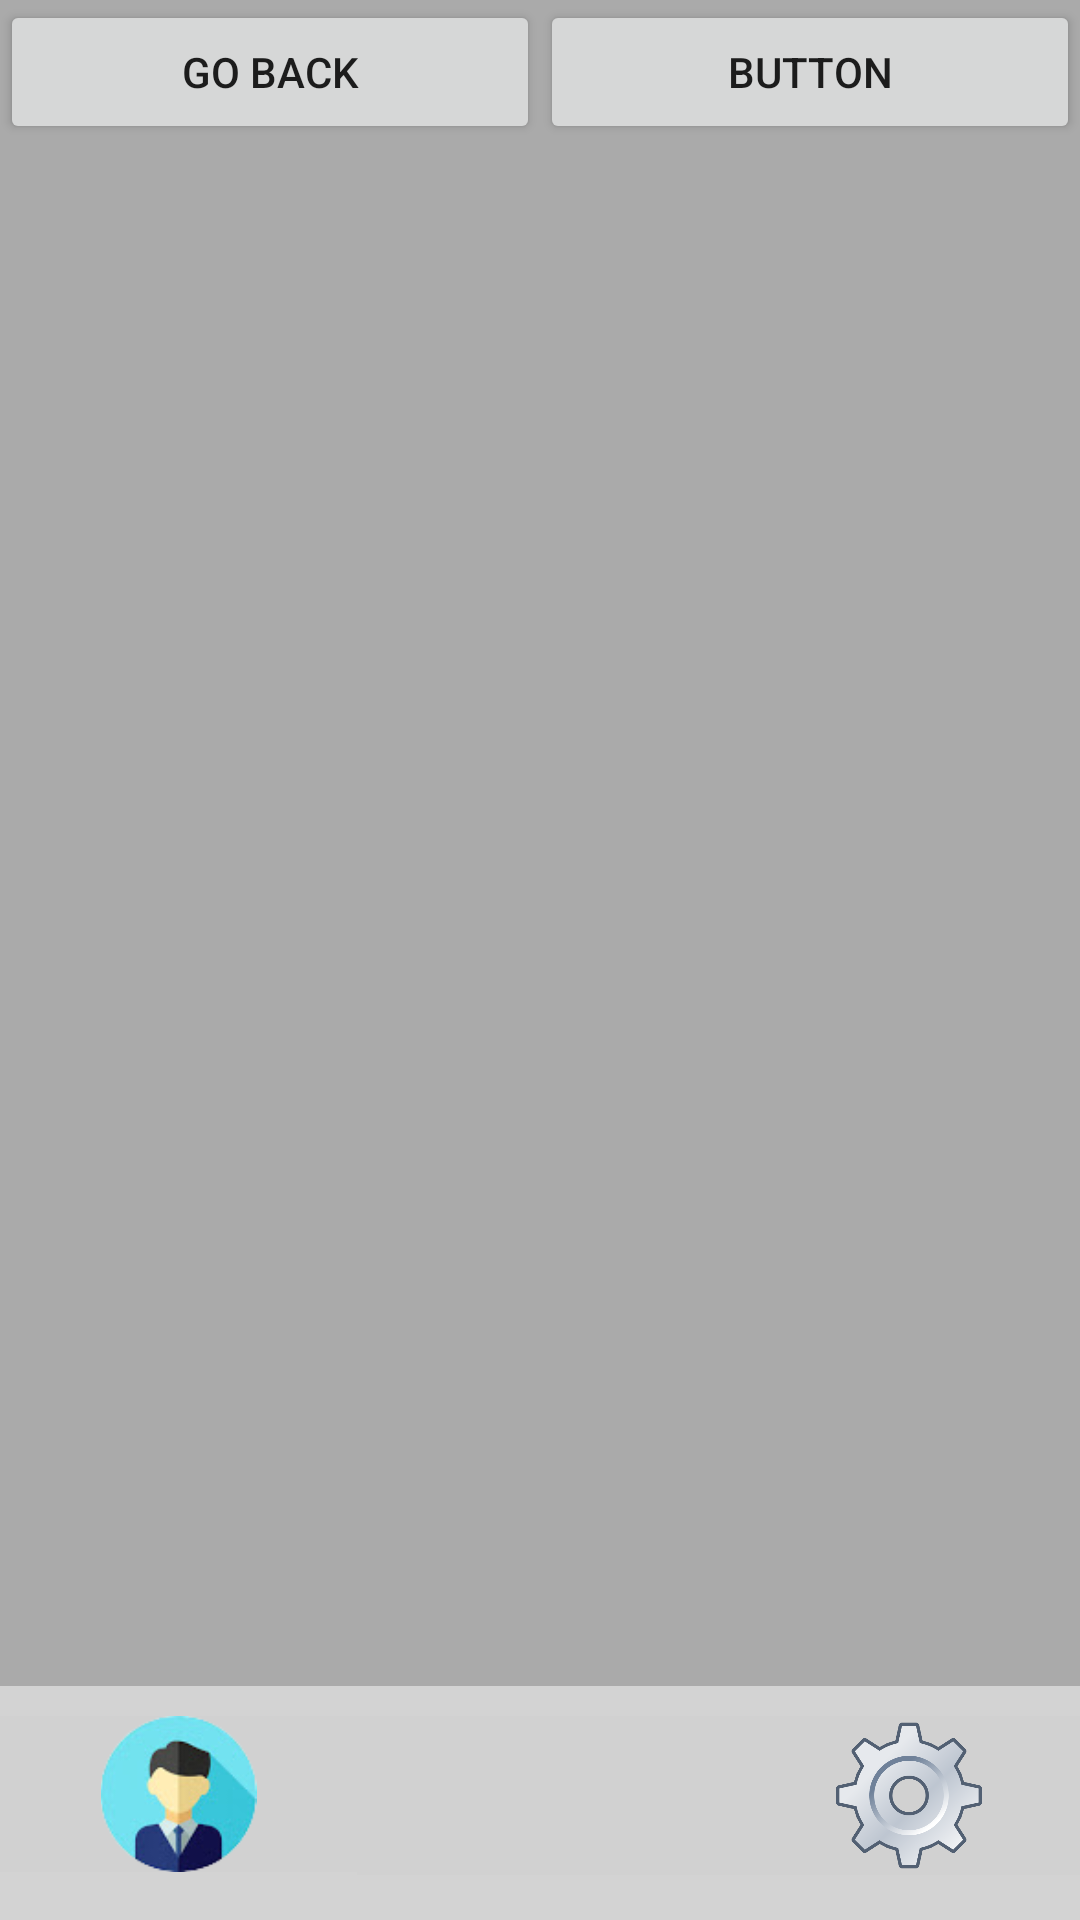

Locate icon controls on the screen. Image size 1080px x 1920px, boxes as [x1, y1, x2, y2].
Account: [101, 1716, 257, 1872]
Settings: [836, 1722, 982, 1869]
